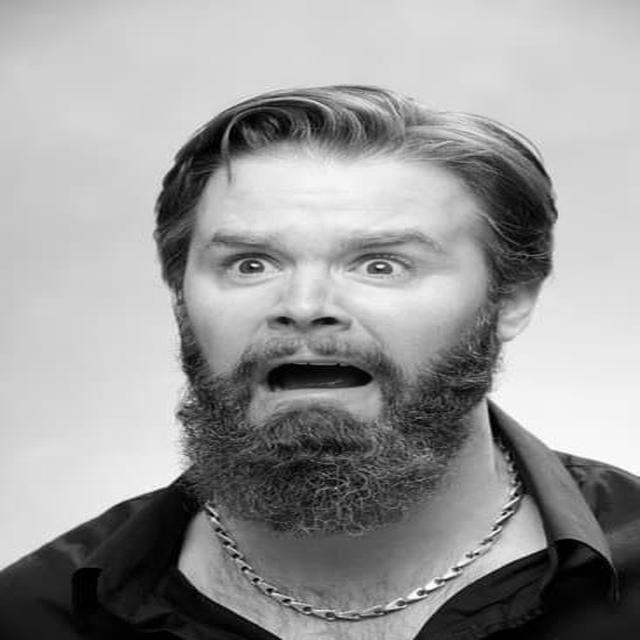Fear: (185, 141, 488, 529)
